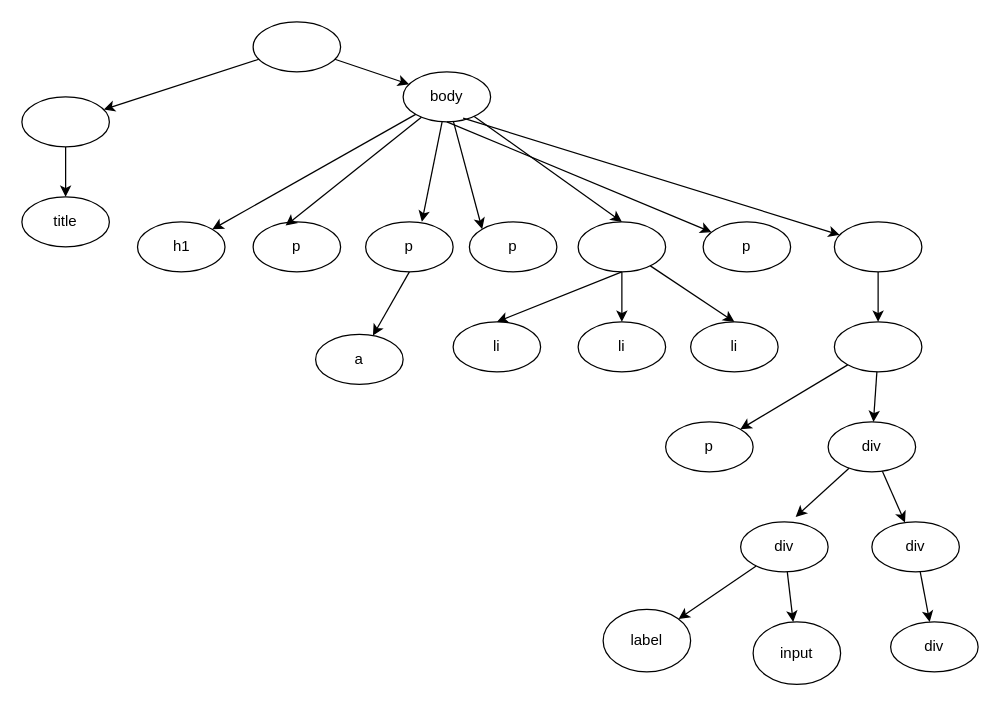
Some shapes in this 1000 by 706 pixel diagram are drawn without their labels. The box of each missing label's shape, as (x1, y1, x2, y2) in pixels:
form: (833, 221, 922, 272)
h2: (833, 321, 922, 372)
head: (21, 96, 109, 147)
html: (252, 21, 341, 72)
ul: (577, 221, 666, 272)
